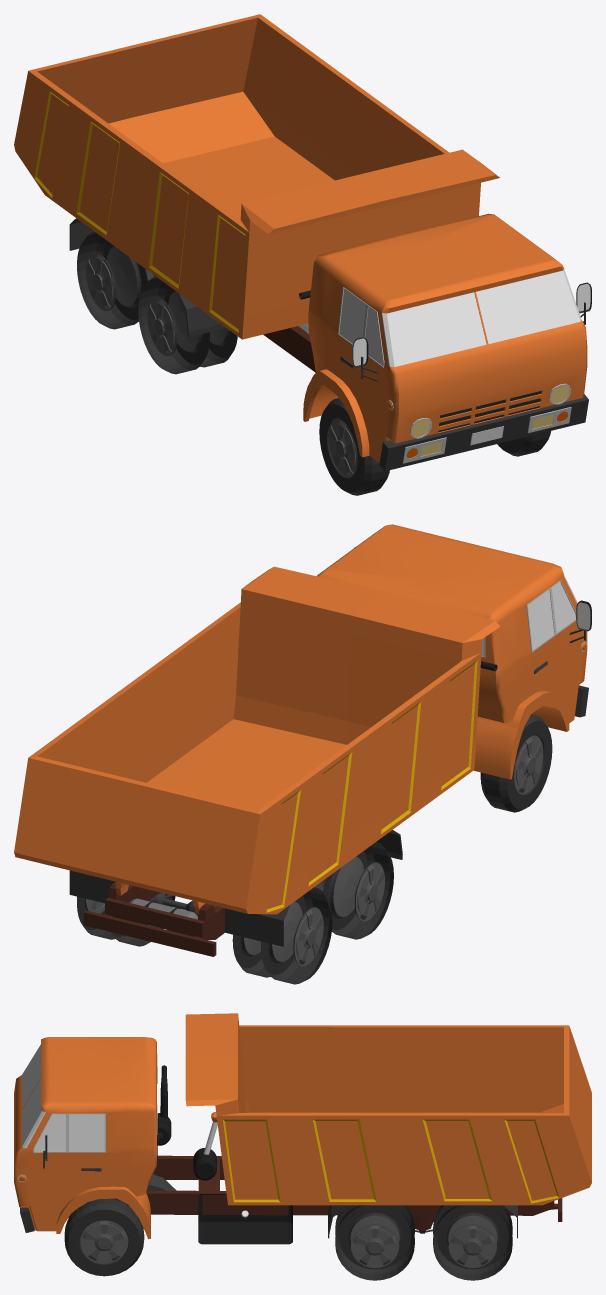
Rendered from Kamaz_DumpTruck_LP.glb.
The picture shows the model from 3 angles, top to bottom: view 1: azimuth 30°, elevation 25°; view 2: azimuth 150°, elevation 25°; view 3: azimuth 270°, elevation 25°; orthographic projection. The views are drawn at different scales.
Size of the model in its own units: 2.64 by 2.47 by 6.96.
